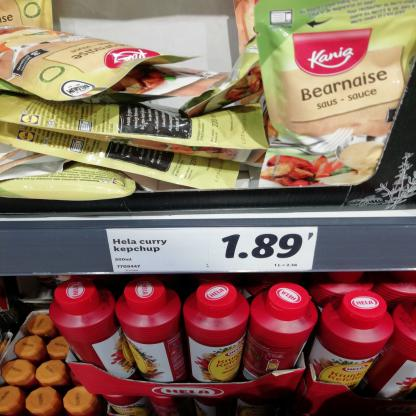prtg: (107, 227, 319, 274)
